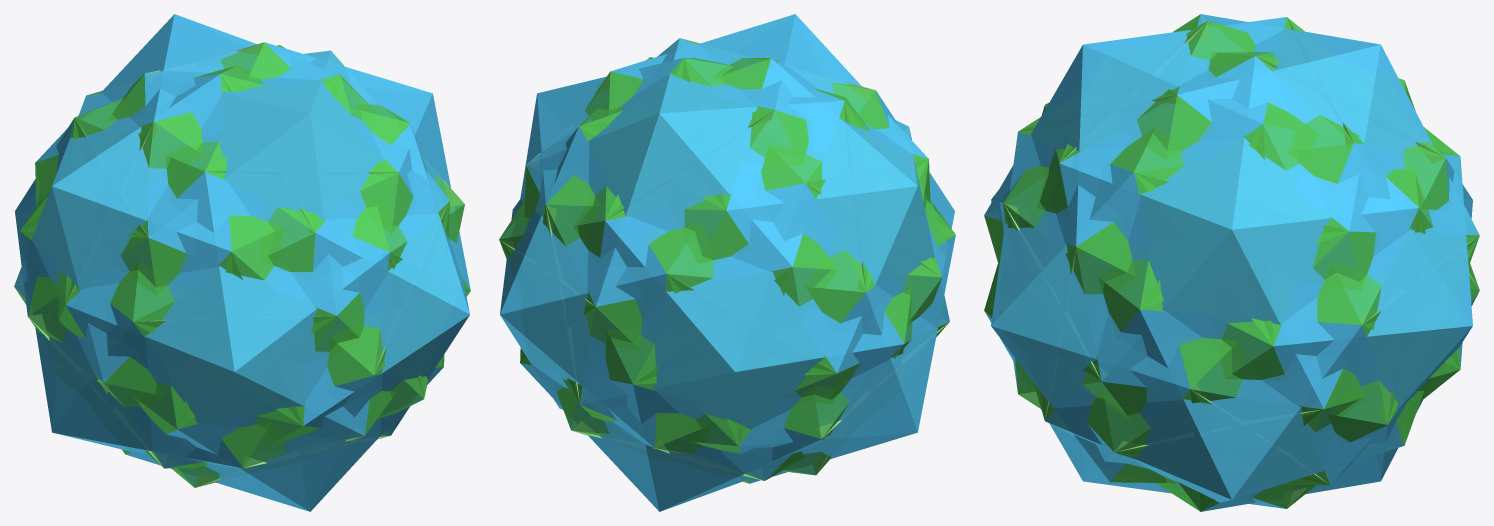
The model's file is 56_Dodekaugmentedexcavated_Sic.obj.
The picture shows the model from 3 angles, left to right: view 1: azimuth 30°, elevation 25°; view 2: azimuth 150°, elevation 25°; view 3: azimuth 270°, elevation 25°; orthographic projection. The views are drawn at different scales.
Size of the model in its own units: 2.21 by 2.21 by 2.21.
